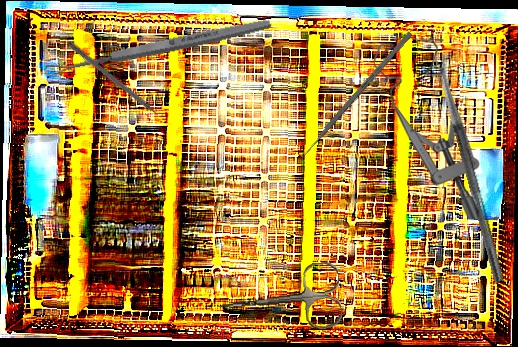Iris Scissors: (214, 261, 344, 338)
Pusher: (295, 31, 413, 165), (65, 40, 173, 129)
Speculum: (374, 38, 481, 219)
Surgical Spoon: (434, 53, 506, 284), (41, 15, 274, 80)
